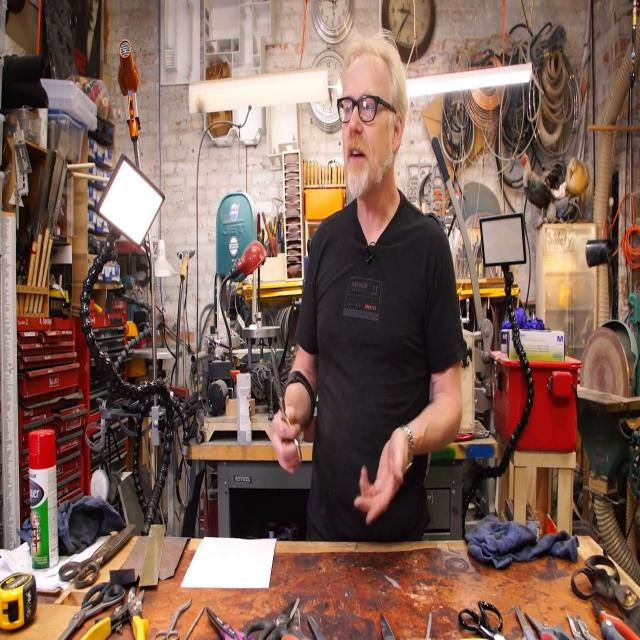scissor: (572, 554, 639, 640), (60, 522, 136, 588), (60, 582, 125, 640), (246, 597, 300, 640), (591, 601, 640, 640), (458, 601, 506, 640), (156, 599, 192, 640), (526, 610, 572, 640), (206, 609, 246, 640), (280, 610, 310, 640), (515, 605, 533, 640)
